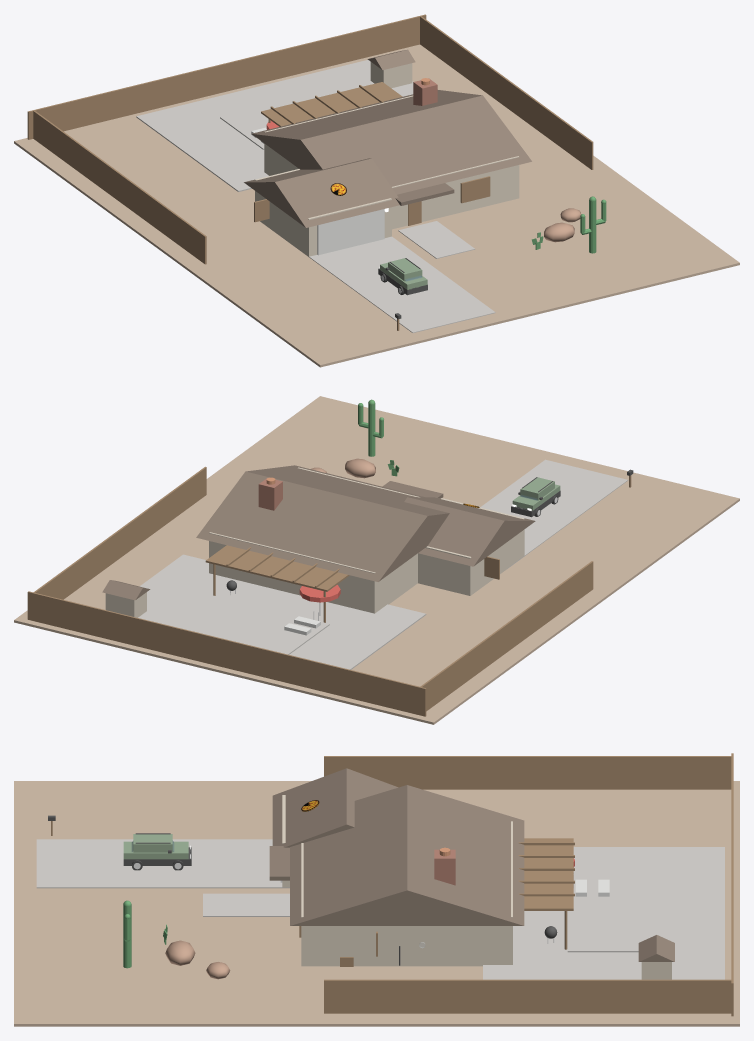
File: walter_white_house.glb
3 views of the same model, one above another, from view 1: azimuth 30°, elevation 25°; view 2: azimuth 150°, elevation 25°; view 3: azimuth 270°, elevation 25° (orthographic). The views are drawn at different scales.
Visible parts, largest first — view 1: Walt_House_308NegraArroyo_lot, Walt_House_308NegraArroyo_main_roof, Walt_House_308NegraArroyo_fence_back, Walt_House_308NegraArroyo_patio, Walt_House_308NegraArroyo_driveway, Walt_House_308NegraArroyo_garage_roof, Walt_House_308NegraArroyo_fence_left, Walt_House_308NegraArroyo_fence_right, Walt_House_308NegraArroyo_main_walls, Walt_House_308NegraArroyo_pergola_beam, Walt_House_308NegraArroyo_garage_door, Walt_House_308NegraArroyo_garage_walls (+6 smaller); view 2: Walt_House_308NegraArroyo_lot, Walt_House_308NegraArroyo_main_roof, Walt_House_308NegraArroyo_fence_back, Walt_House_308NegraArroyo_patio, Walt_House_308NegraArroyo_fence_left, Walt_House_308NegraArroyo_driveway, Walt_House_308NegraArroyo_fence_right, Walt_House_308NegraArroyo_pool_coping, Walt_House_308NegraArroyo_garage_roof, Walt_House_308NegraArroyo_main_walls, Walt_House_308NegraArroyo_garage_walls, Walt_House_308NegraArroyo_pergola_beam (+3 smaller); view 3: Walt_House_308NegraArroyo_lot, Walt_House_308NegraArroyo_main_roof, Walt_House_308NegraArroyo_patio, Walt_House_308NegraArroyo_fence_right, Walt_House_308NegraArroyo_fence_left, Walt_House_308NegraArroyo_driveway, Walt_House_308NegraArroyo_main_walls, Walt_House_308NegraArroyo_pool_coping, Walt_House_308NegraArroyo_garage_roof, Walt_House_308NegraArroyo_pergola_beam, Walt_House_308NegraArroyo_walkway, Walt_House_308NegraArroyo_shed_roof (+8 smaller).
Boxes of the visible parts, x1,y1,x2,y2 form: Walt_House_308NegraArroyo_lot: [14, 44, 739, 367]; Walt_House_308NegraArroyo_main_roof: [251, 90, 531, 194]; Walt_House_308NegraArroyo_fence_back: [27, 14, 426, 139]; Walt_House_308NegraArroyo_patio: [136, 60, 413, 191]; Walt_House_308NegraArroyo_driveway: [295, 236, 495, 332]; Walt_House_308NegraArroyo_garage_roof: [244, 158, 399, 227]; Walt_House_308NegraArroyo_fence_left: [33, 110, 206, 264]; Walt_House_308NegraArroyo_fence_right: [420, 16, 593, 169]; Walt_House_308NegraArroyo_main_walls: [264, 95, 519, 229]; Walt_House_308NegraArroyo_pergola_beam: [261, 82, 402, 126]; Walt_House_308NegraArroyo_garage_door: [317, 209, 384, 255]; Walt_House_308NegraArroyo_garage_walls: [255, 169, 391, 256]; Walt_House_308NegraArroyo_lot: [14, 396, 739, 724]; Walt_House_308NegraArroyo_main_roof: [196, 465, 449, 581]; Walt_House_308NegraArroyo_fence_back: [27, 591, 426, 716]; Walt_House_308NegraArroyo_patio: [138, 554, 426, 669]; Walt_House_308NegraArroyo_fence_left: [420, 561, 593, 711]; Walt_House_308NegraArroyo_driveway: [480, 459, 628, 568]; Walt_House_308NegraArroyo_fence_right: [33, 466, 206, 599]; Walt_House_308NegraArroyo_pool_coping: [167, 594, 329, 654]; Walt_House_308NegraArroyo_garage_roof: [404, 497, 535, 566]; Walt_House_308NegraArroyo_main_walls: [209, 467, 419, 613]; Walt_House_308NegraArroyo_garage_walls: [418, 498, 524, 595]; Walt_House_308NegraArroyo_pergola_beam: [205, 545, 349, 591]; Walt_House_308NegraArroyo_lot: [14, 781, 739, 1026]; Walt_House_308NegraArroyo_main_roof: [290, 785, 524, 925]; Walt_House_308NegraArroyo_patio: [483, 847, 724, 979]; Walt_House_308NegraArroyo_fence_right: [324, 979, 731, 1013]; Walt_House_308NegraArroyo_fence_left: [324, 756, 731, 789]; Walt_House_308NegraArroyo_driveway: [36, 839, 289, 888]; Walt_House_308NegraArroyo_main_walls: [301, 821, 512, 966]; Walt_House_308NegraArroyo_pool_coping: [567, 880, 670, 952]; Walt_House_308NegraArroyo_garage_roof: [272, 768, 398, 847]; Walt_House_308NegraArroyo_pergola_beam: [524, 838, 573, 910]; Walt_House_308NegraArroyo_walkway: [203, 893, 289, 916]; Walt_House_308NegraArroyo_shed_roof: [638, 935, 674, 961].
Size of what is drawn, in the model's own units: 38 by 7.3 by 48.
Materials: 22 (1 with a texture image).
